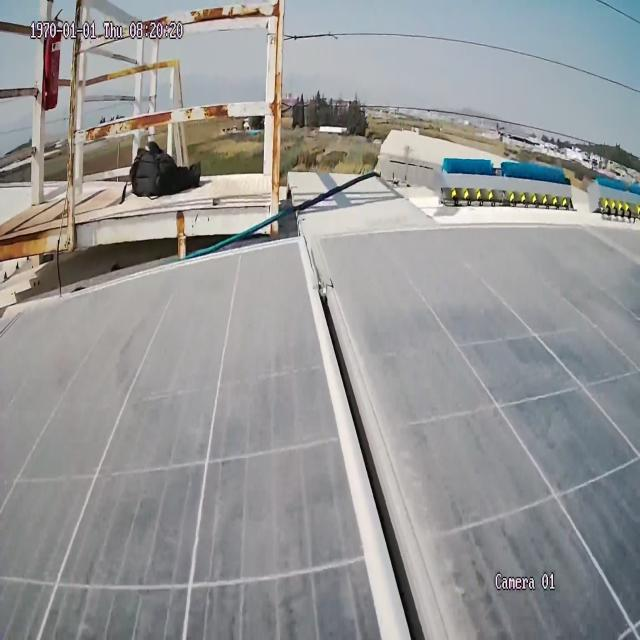interior panel: (267, 228, 517, 640)
